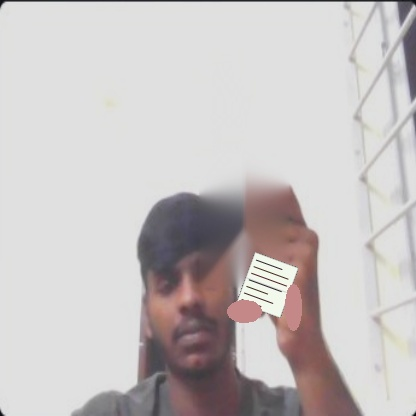cheat_chit: (236, 252, 298, 318)
